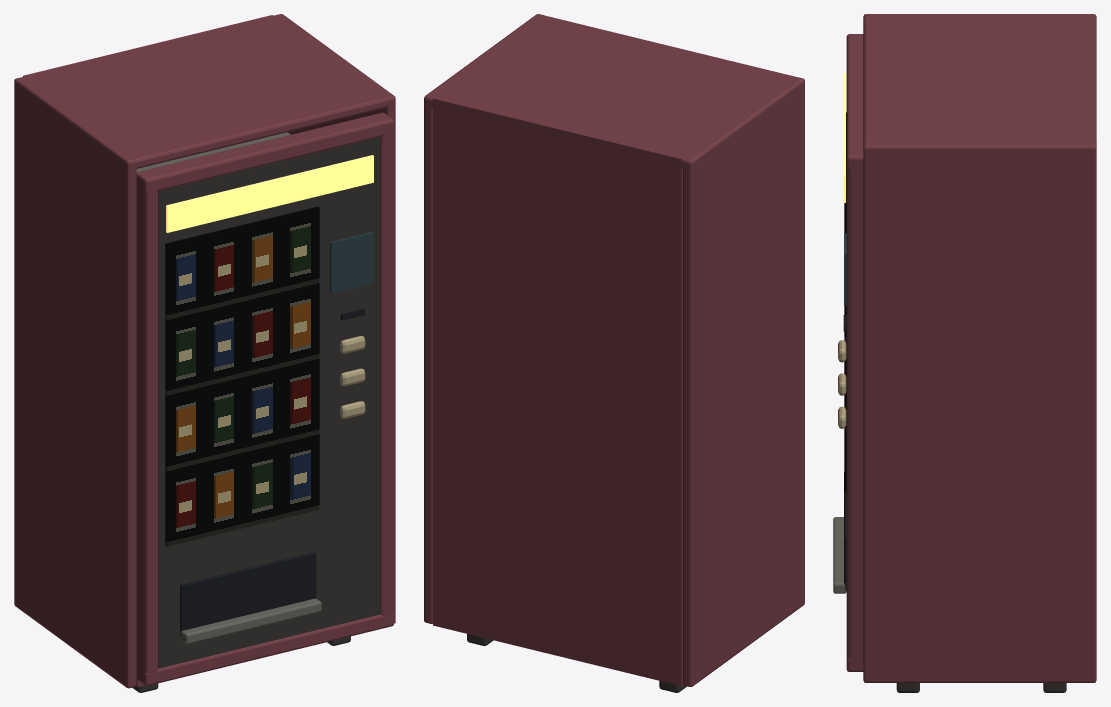
Rendered from MS_SP_10_VendingMachine.glb.
3 views of the same model, side by side, from view 1: azimuth 30°, elevation 25°; view 2: azimuth 150°, elevation 25°; view 3: azimuth 270°, elevation 25° (orthographic).
Parts seen in each view (by area): view 1: Back, ProductWindow, FrontPanel, DoorRail, CoinSlot, HeaderLight, Display, ReturnLip, SelectionButton, InnerShelf; view 2: Back; view 3: Back, DoorRail, ReturnLip, ProductWindow, SelectionButton, Foot.001.
Boxes of the visible parts, x1,y1,x2,y2 form: Back: (14, 14, 395, 688); ProductWindow: (165, 206, 319, 546); FrontPanel: (158, 137, 379, 668); DoorRail: (136, 112, 393, 685); CoinSlot: (180, 308, 365, 636); HeaderLight: (166, 155, 373, 232); Display: (330, 232, 373, 293); ReturnLip: (180, 598, 321, 644); SelectionButton: (340, 336, 365, 418); InnerShelf: (136, 132, 290, 172); Back: (424, 14, 804, 686); Back: (863, 14, 1096, 682); DoorRail: (846, 34, 863, 671); ReturnLip: (833, 517, 846, 593); ProductWindow: (844, 112, 846, 496); SelectionButton: (838, 340, 846, 428); Foot.001: (896, 683, 1066, 692).
Size of the model in its own units: 0.95 by 1.86 by 0.79.
Materials: 8 (2 with a texture image).
